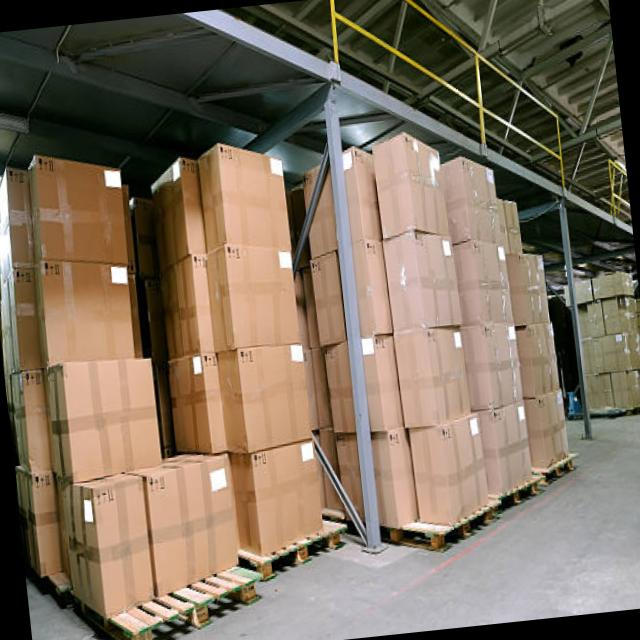Wooden-Pallets: (126, 567, 265, 640), (262, 516, 346, 599), (431, 491, 504, 565)
